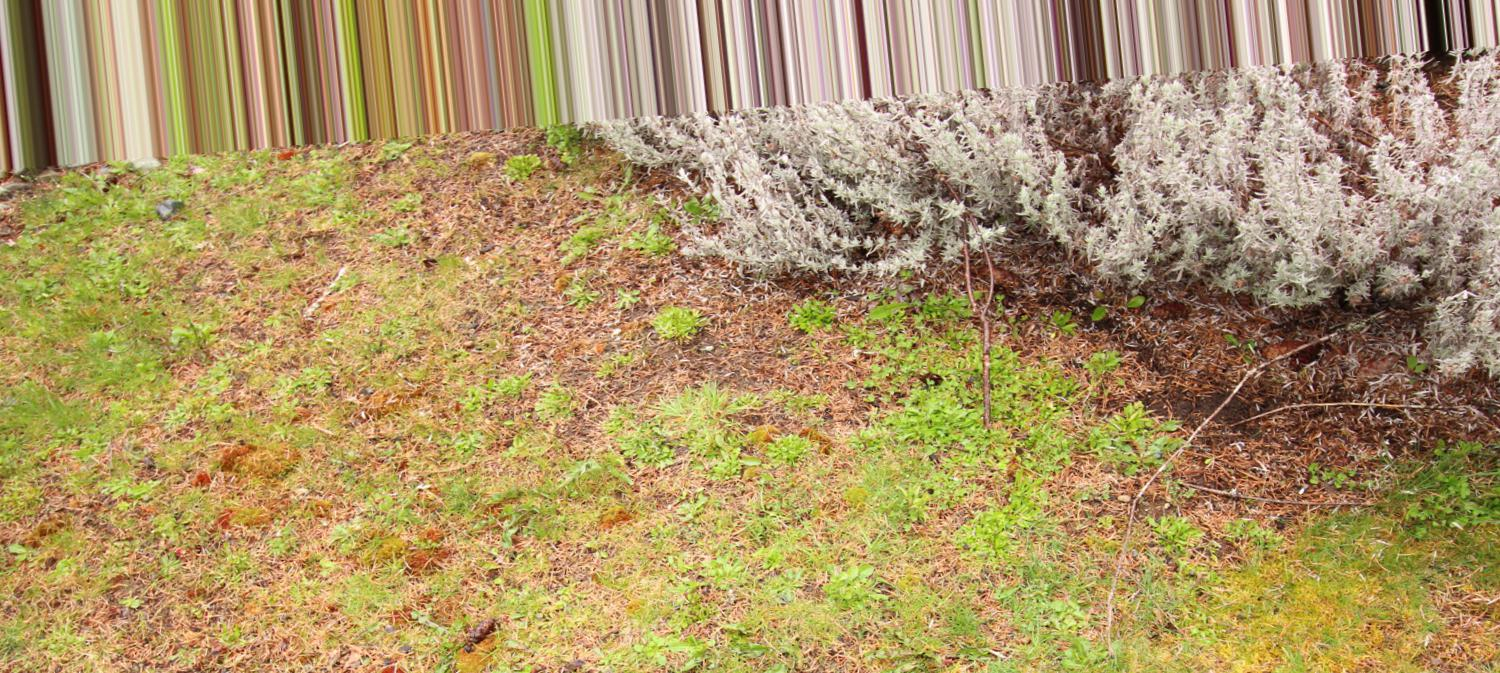patch: (1141, 265, 1318, 391), (1366, 362, 1461, 536), (486, 228, 623, 345), (1212, 451, 1312, 536), (703, 294, 803, 359)
